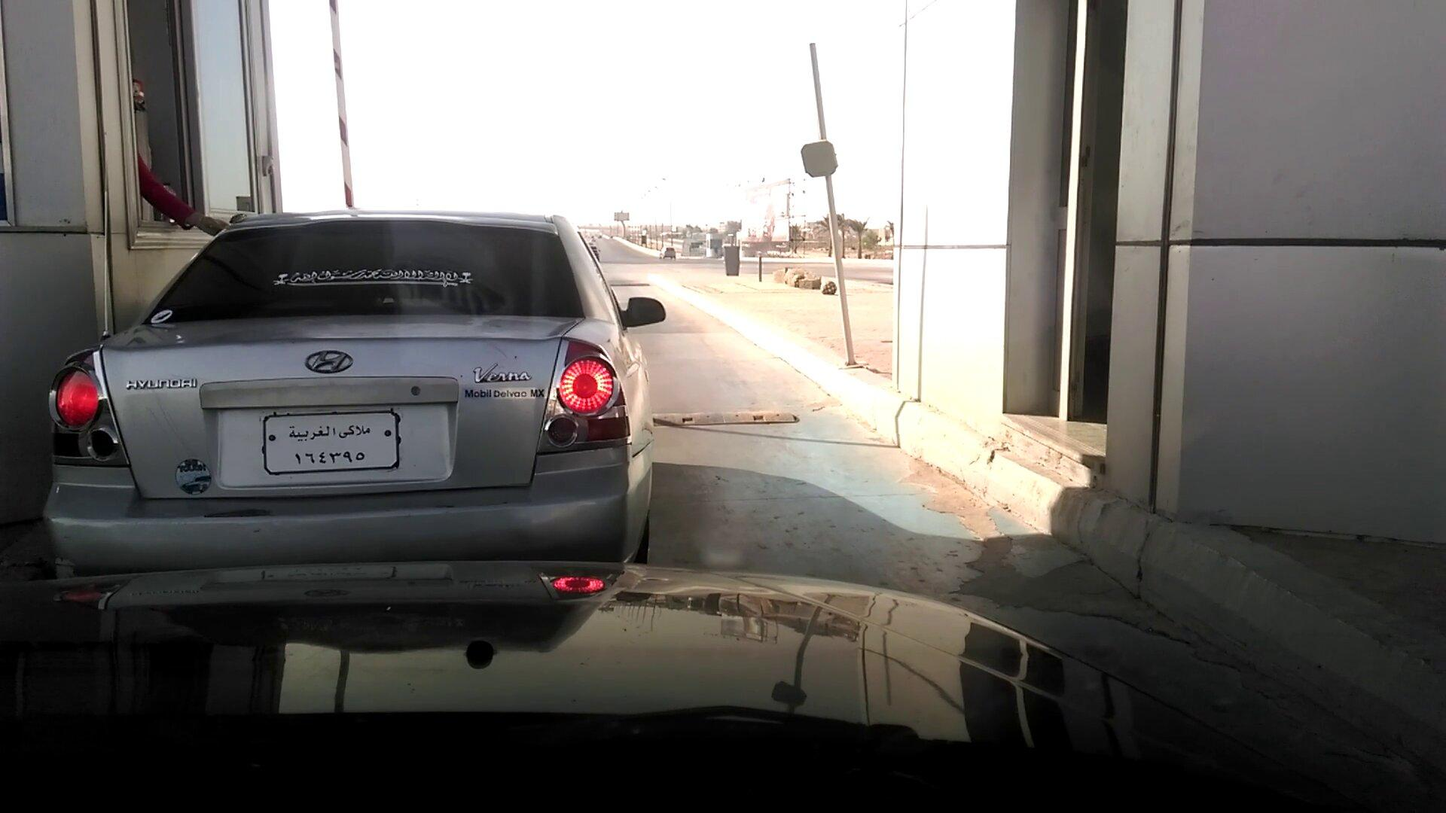Bump: (653, 410, 793, 433)
